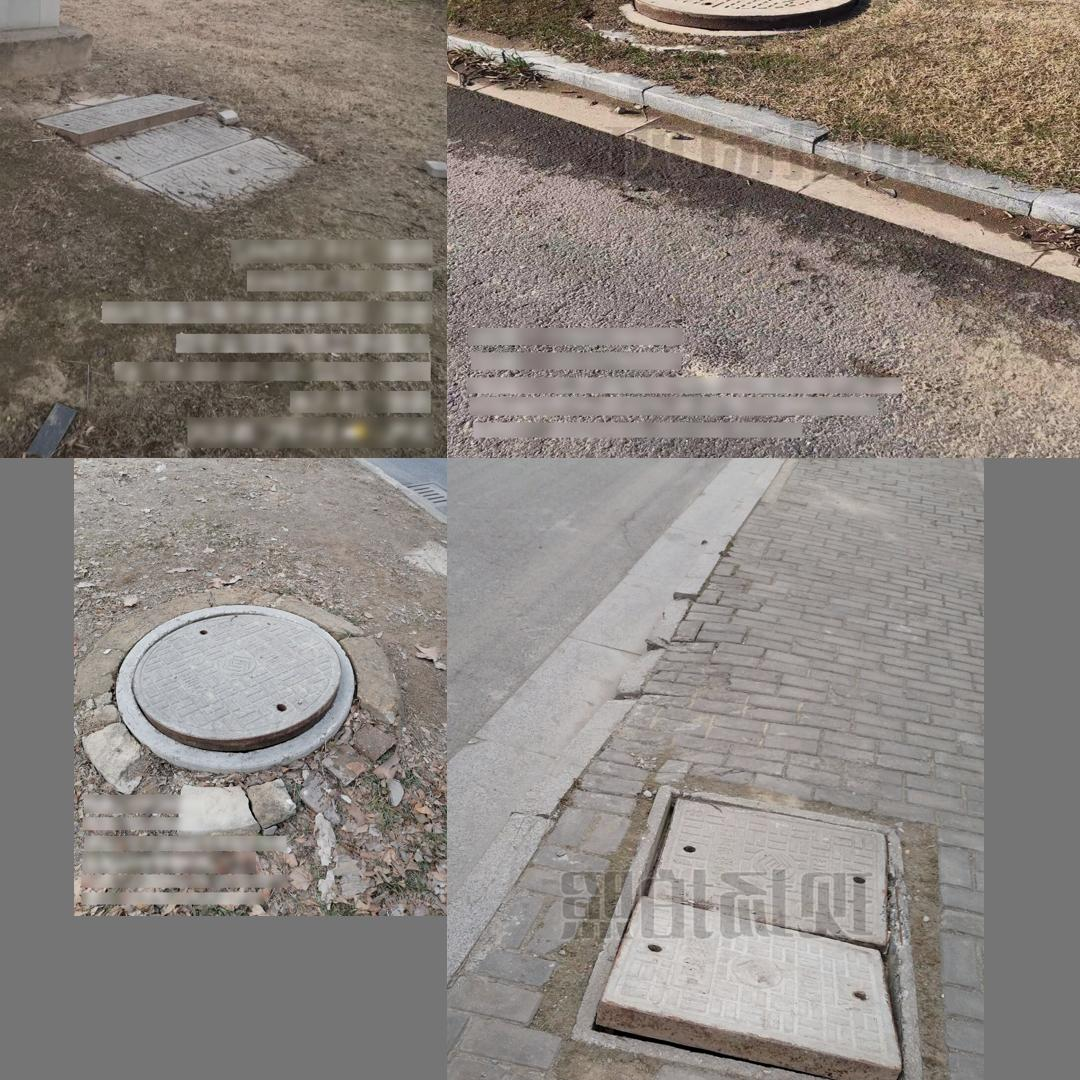uncovered: (559, 848, 898, 1072), (114, 603, 357, 772), (33, 90, 320, 219), (620, 0, 861, 36)
